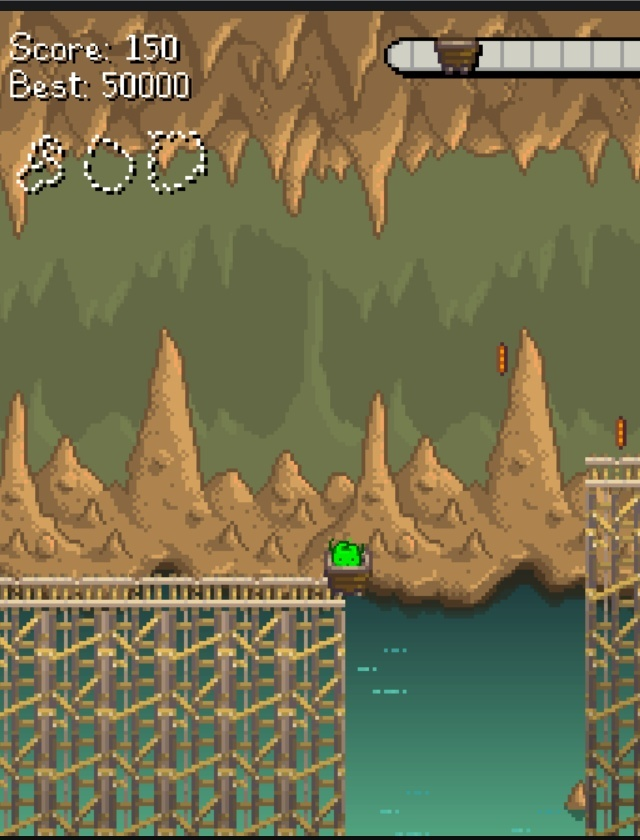coins: (497, 342, 507, 375), (616, 416, 626, 449)
minecart: (324, 540, 370, 593)
tracks: (0, 562, 316, 620), (574, 448, 640, 495)
